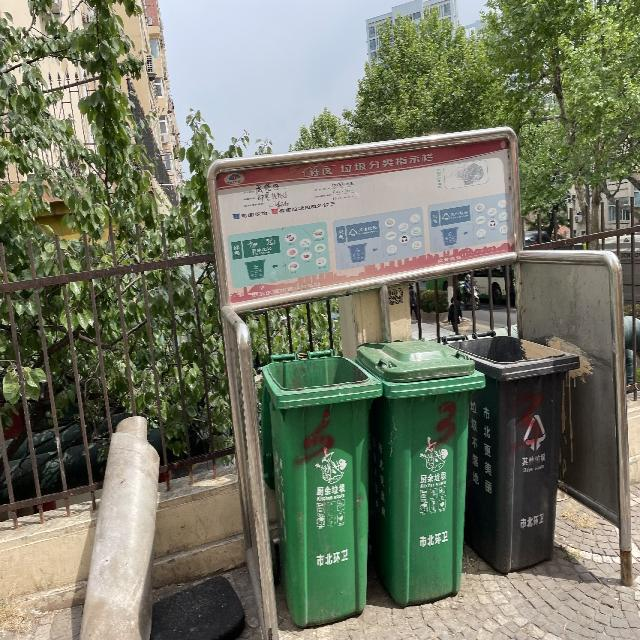garbage_bin: (354, 338, 486, 606), (260, 349, 382, 627), (441, 330, 578, 575)
